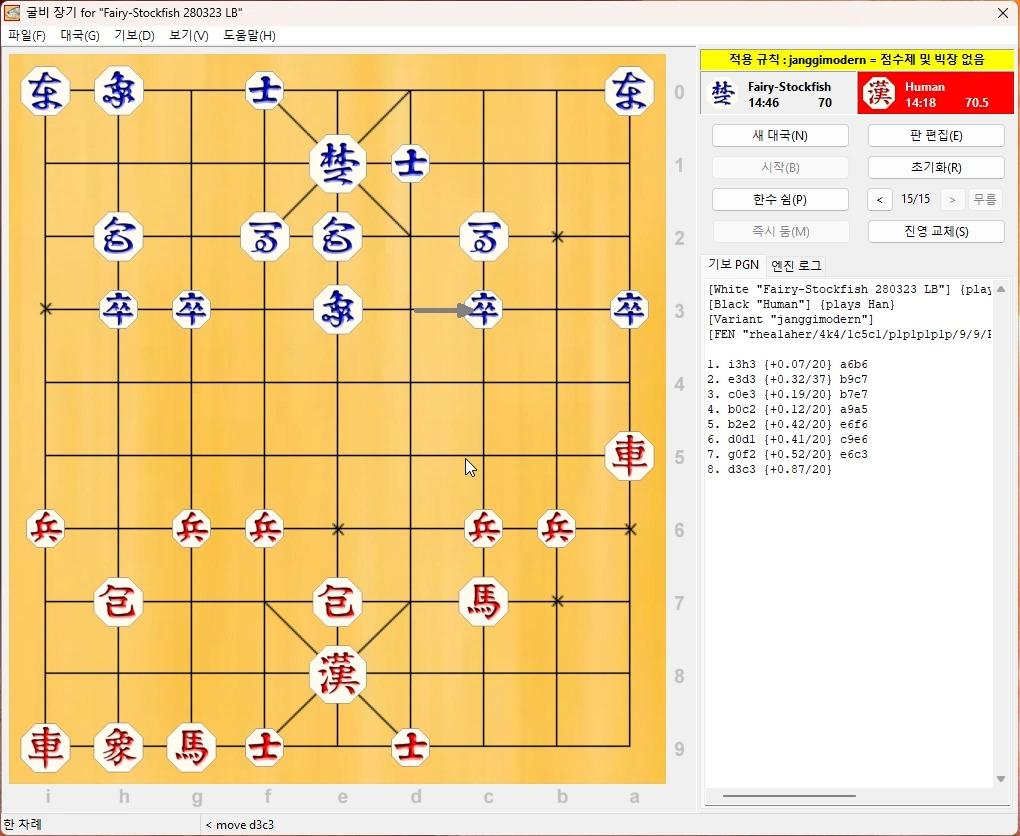cha_green: (603, 68, 653, 115), (21, 70, 69, 114)
cha_red: (604, 433, 655, 479), (20, 724, 69, 770)
jol_green: (463, 292, 504, 328), (171, 292, 210, 328), (610, 291, 649, 326), (98, 293, 136, 328)
jol_red: (466, 510, 505, 548), (537, 512, 578, 547), (243, 512, 283, 547), (25, 512, 65, 547), (174, 510, 212, 546)
ma_green: (241, 214, 291, 260), (462, 214, 506, 260)
ma_red: (168, 723, 214, 774), (459, 577, 508, 623)
po_green: (314, 214, 363, 259), (93, 214, 142, 259)
po_red: (315, 577, 364, 622), (95, 580, 144, 624)
sa_green: (244, 71, 284, 112), (390, 147, 431, 181)
sa_red: (245, 730, 286, 767), (392, 729, 430, 765)
sang_green: (94, 68, 143, 114), (315, 287, 362, 333)
sang_red: (93, 724, 144, 771)
wang_green: (311, 135, 369, 188)
wang_red: (311, 646, 368, 702)
